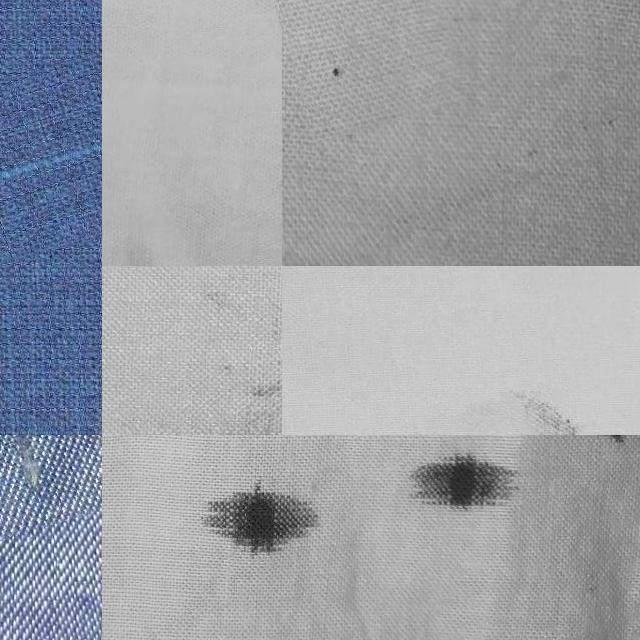Hole: (269, 0, 455, 133), (196, 456, 344, 572), (386, 435, 531, 530), (401, 390, 621, 435), (564, 435, 640, 459)
Thread_other: (0, 26, 102, 288), (0, 435, 102, 534)
